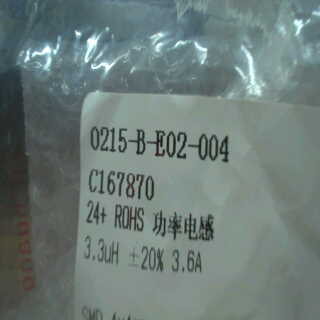3.3uH: (76, 233, 128, 271)
